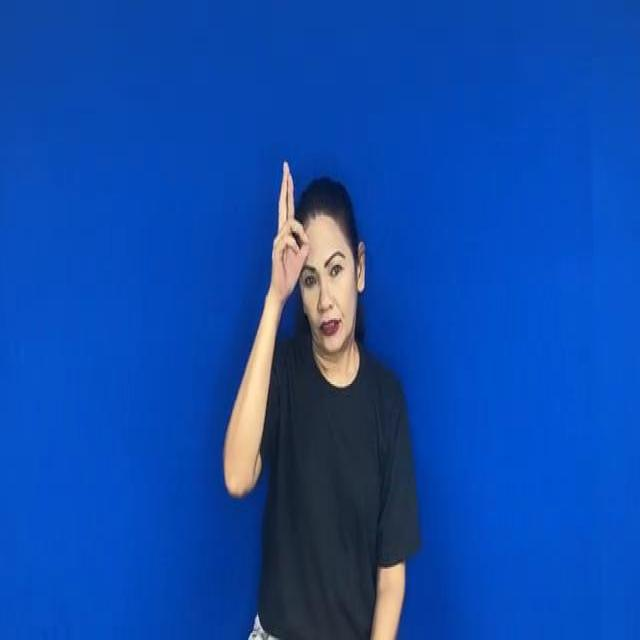chicken: (259, 150, 315, 297)
